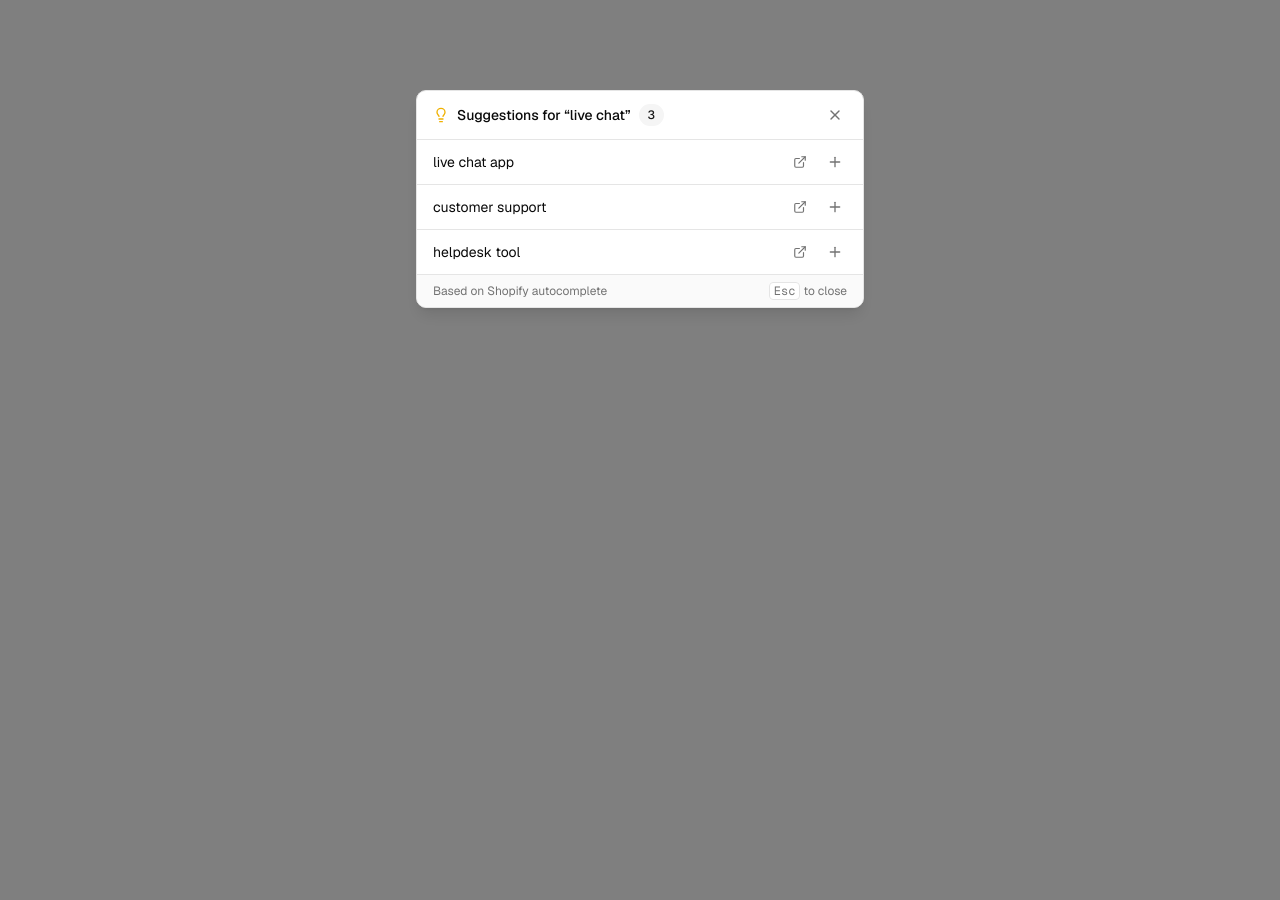
Test: KeywordSuggestionsModal › marks keyword as Added after adding
Expected: the text "customer support" is shown, x1=433 y1=198 x2=547 y2=216
Step 1. Click the button titled "Track \"" → point(835, 162), box x1=823 y1=150 x2=847 y2=174
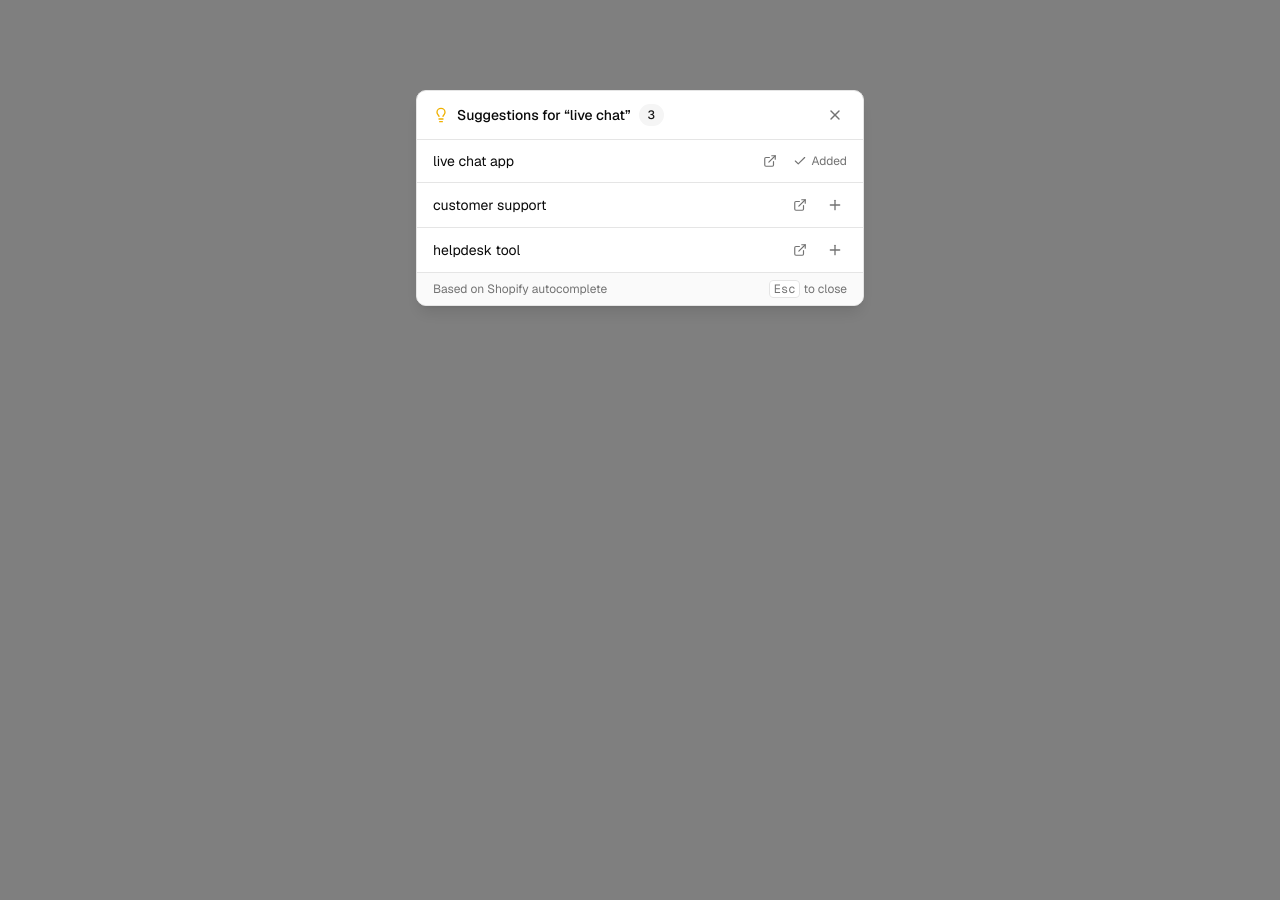
Expected: the text "Added" is shown, x1=793 y1=153 x2=847 y2=169
